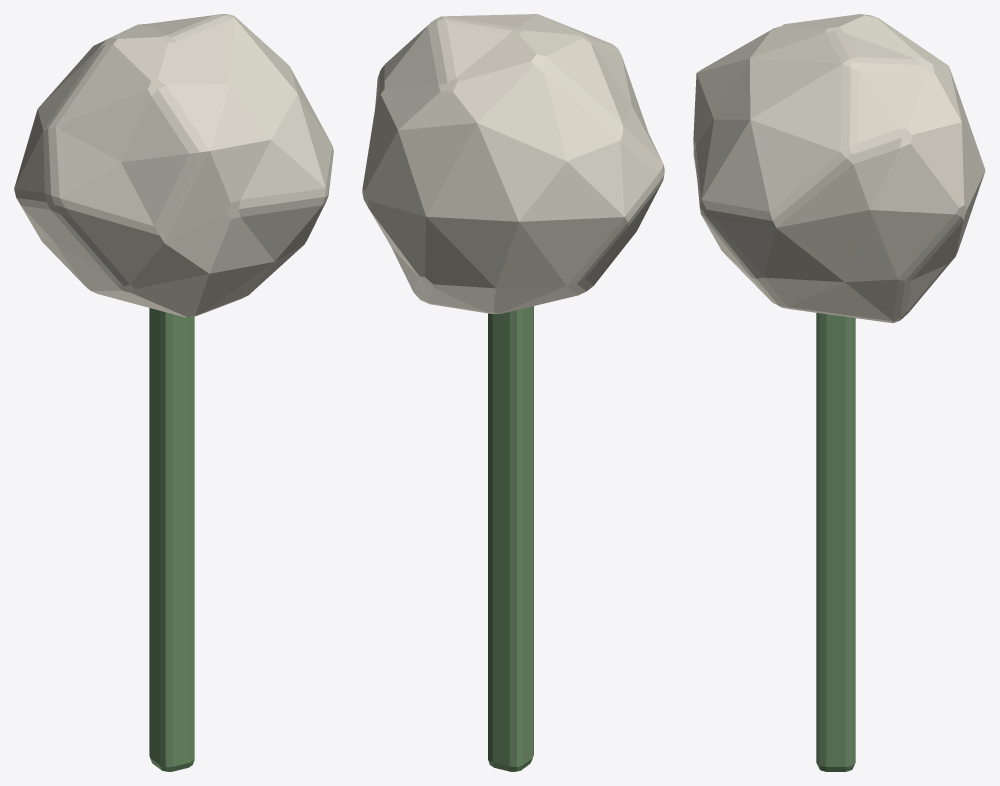
Rendered from wildflower_white.glb.
3 renders of one model, left to right at view 1: azimuth 30°, elevation 25°; view 2: azimuth 150°, elevation 25°; view 3: azimuth 270°, elevation 25°, orthographic.
Parts seen in each view (by area): view 1: Wildflower_white; view 2: Wildflower_white; view 3: Wildflower_white.
Boxes of the visible parts, box(x1,y1,x2,y2) form: Wildflower_white: box(14, 14, 333, 771); Wildflower_white: box(362, 14, 664, 771); Wildflower_white: box(693, 14, 985, 771).
Size of the model in its own units: 0.1588 by 0.4148 by 0.149.
